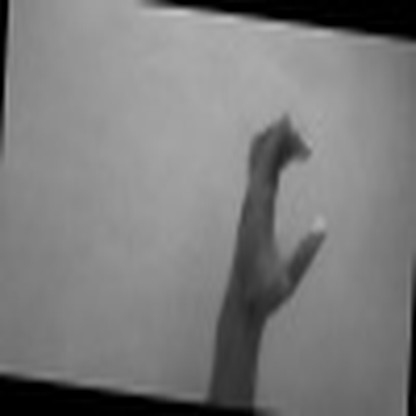c: (233, 108, 332, 308)
